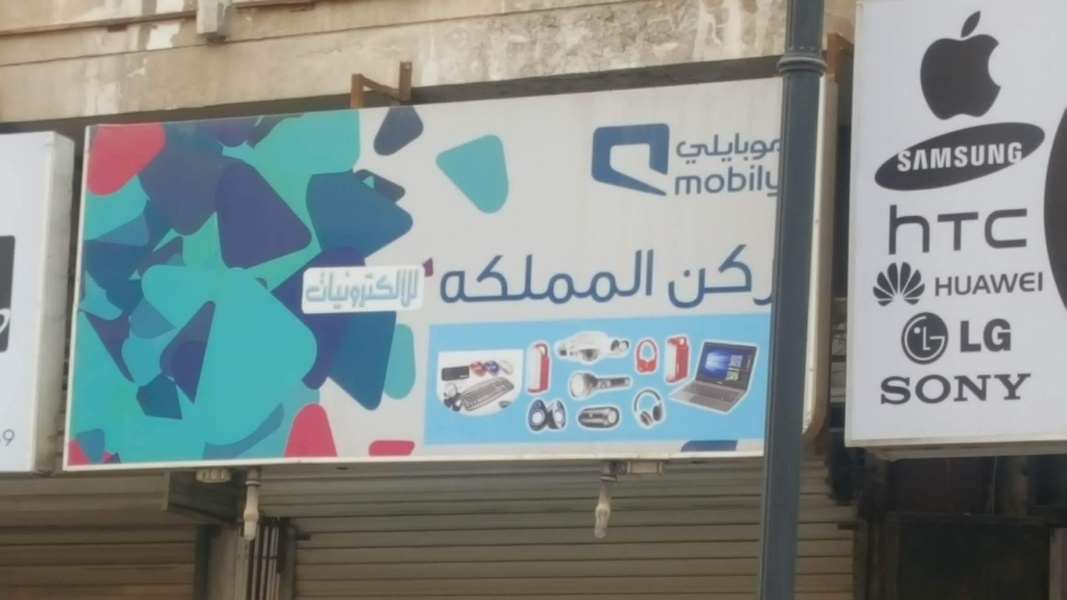text: (673, 243, 688, 310), (689, 243, 704, 310), (705, 243, 720, 310), (721, 243, 736, 310), (737, 243, 752, 310), (449, 247, 464, 308), (465, 247, 480, 308), (481, 247, 496, 308), (497, 247, 512, 308), (513, 247, 528, 308), (529, 247, 544, 308), (545, 247, 560, 308), (561, 247, 576, 308), (577, 247, 592, 308), (593, 247, 608, 308), (609, 247, 624, 308), (625, 247, 640, 308), (641, 247, 655, 308), (897, 203, 912, 257), (913, 203, 928, 257), (929, 203, 944, 257), (945, 203, 960, 257), (961, 203, 976, 257), (977, 203, 992, 257), (993, 203, 1008, 257), (1009, 203, 1024, 257), (321, 269, 336, 311), (337, 269, 352, 311), (353, 269, 368, 311), (369, 269, 384, 311), (385, 269, 400, 311), (401, 269, 416, 311), (306, 269, 320, 311), (881, 371, 896, 408), (897, 371, 912, 408), (913, 371, 928, 408), (929, 371, 944, 408), (945, 371, 960, 408), (961, 371, 976, 408), (977, 371, 992, 408), (993, 371, 1008, 408), (1009, 371, 1024, 408), (961, 318, 976, 354), (977, 318, 992, 354), (993, 318, 1008, 354), (913, 140, 928, 176), (929, 140, 944, 176), (945, 140, 960, 176), (961, 140, 976, 176), (977, 140, 992, 176), (993, 140, 1008, 176), (1009, 140, 1024, 176), (689, 130, 704, 166), (705, 130, 720, 166), (721, 130, 736, 166), (737, 130, 752, 166), (753, 130, 768, 166), (769, 130, 784, 166), (898, 140, 912, 176), (689, 164, 704, 197), (705, 164, 720, 197), (721, 164, 736, 197), (737, 164, 752, 197), (887, 203, 896, 257), (441, 247, 448, 308), (945, 270, 960, 297), (961, 270, 976, 297), (977, 270, 992, 297), (993, 270, 1008, 297), (1009, 270, 1024, 297), (1025, 270, 1040, 297), (676, 164, 688, 197), (753, 164, 765, 197), (678, 130, 688, 166), (667, 243, 672, 310), (1025, 203, 1031, 257), (1025, 371, 1033, 408), (3, 429, 16, 448), (936, 270, 944, 297), (1009, 318, 1014, 354), (1041, 270, 1047, 297), (753, 243, 755, 310), (417, 269, 419, 311), (1025, 140, 1027, 176), (959, 318, 960, 354)
